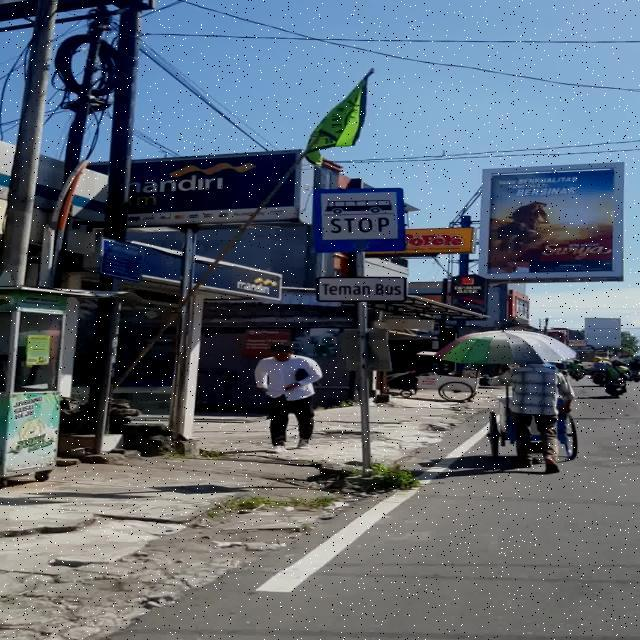Pemberhentian Bus: (312, 188, 406, 252)
